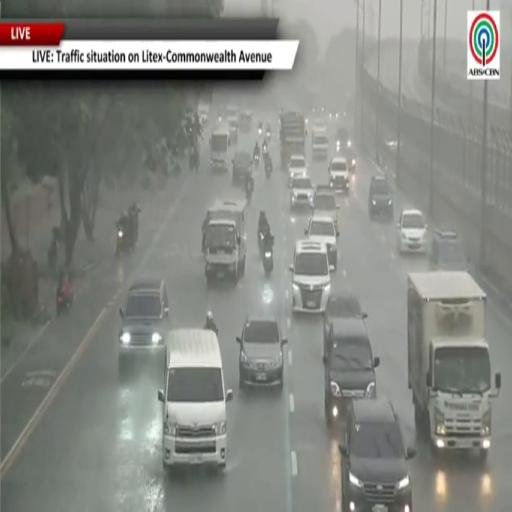car: (339, 398, 415, 511), (324, 319, 379, 424), (119, 279, 169, 371), (237, 316, 287, 388), (289, 240, 330, 313), (324, 293, 367, 355), (305, 216, 339, 270), (430, 229, 468, 270), (397, 210, 428, 253), (312, 186, 339, 229), (369, 175, 393, 220), (290, 174, 314, 210), (328, 156, 350, 194), (233, 152, 253, 185), (288, 155, 308, 186), (312, 124, 329, 159), (345, 148, 356, 181), (336, 126, 349, 149), (228, 118, 238, 145), (240, 111, 252, 133)
motorcycle: (116, 223, 133, 255), (57, 287, 73, 315), (48, 238, 58, 278), (263, 248, 273, 276), (246, 183, 253, 203), (258, 231, 264, 254), (265, 159, 272, 178), (254, 153, 259, 168), (266, 131, 270, 139)
truck: (408, 271, 500, 460), (205, 199, 247, 283), (280, 111, 306, 170), (312, 186, 339, 231), (209, 123, 230, 171)
